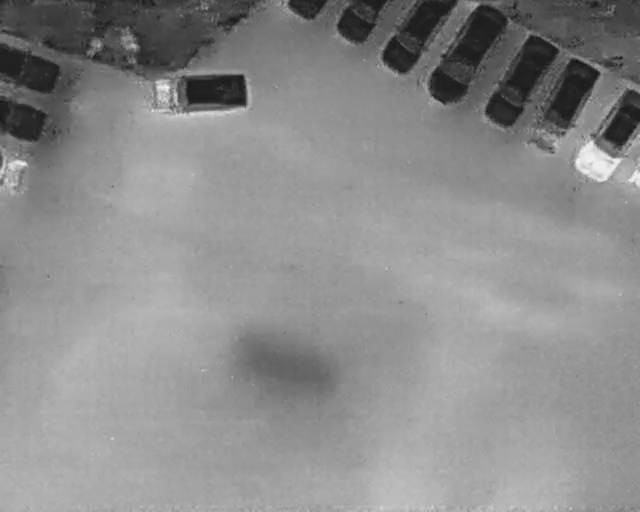Car: (418, 0, 517, 115), (518, 51, 604, 162), (476, 26, 563, 135), (572, 84, 639, 184), (379, 0, 457, 76), (142, 71, 254, 118), (0, 40, 61, 96), (0, 95, 50, 145), (334, 0, 387, 46), (0, 148, 32, 199), (285, 0, 327, 23)
